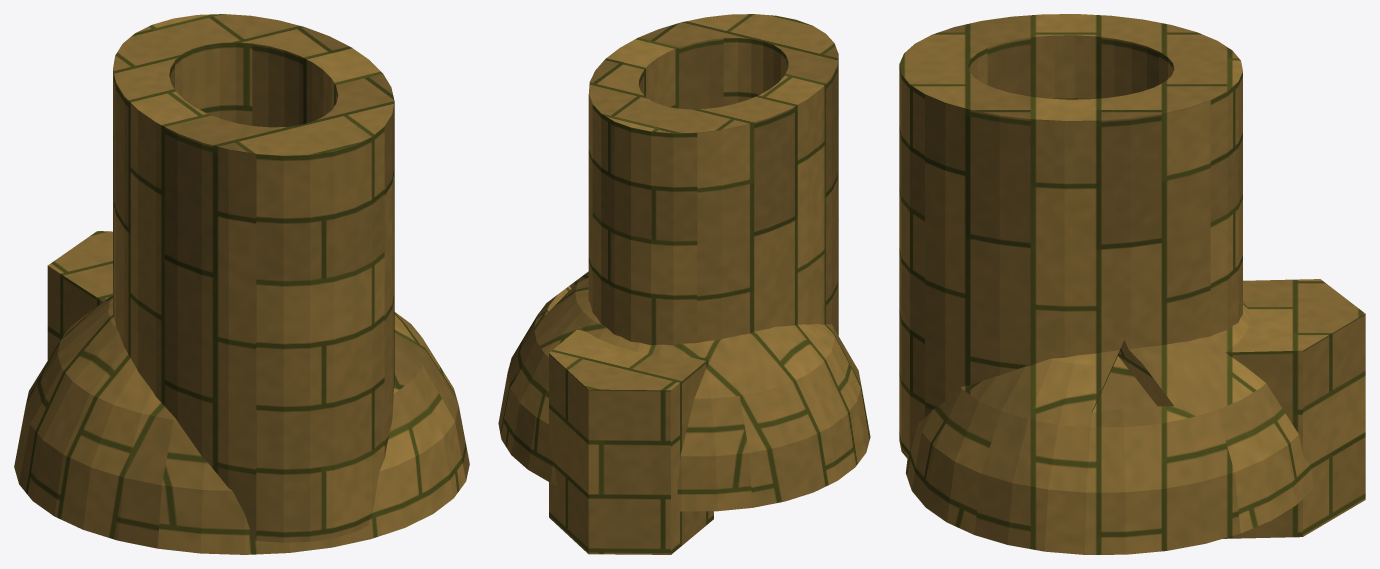
3 views of the same model, side by side, from view 1: azimuth 30°, elevation 25°; view 2: azimuth 150°, elevation 25°; view 3: azimuth 270°, elevation 25° (orthographic). The views are drawn at different scales.
Visible parts, largest first — view 1: geometry_0; view 2: geometry_0; view 3: geometry_0.
Part boxes in pixels (x1,y1,x2,y2): geometry_0: (14,14,469,554); geometry_0: (498,14,870,554); geometry_0: (899,14,1365,554).
Size of the model in its own units: 1.55 by 1.71 by 1.66.
Materials: 1 (1 with a texture image).
